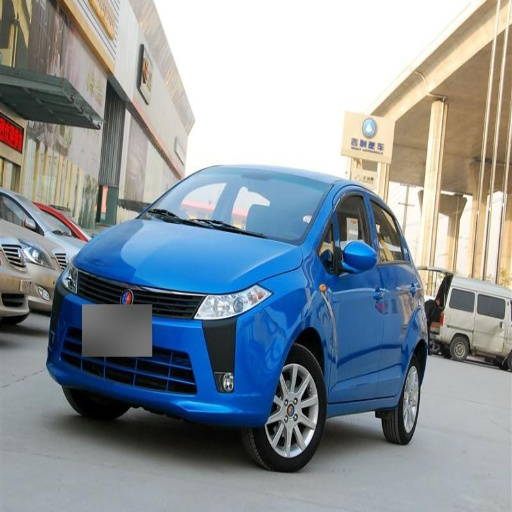front_bumper: (49, 270, 275, 426)
front_glass: (145, 169, 330, 244)
front_left_door: (329, 186, 386, 400)
